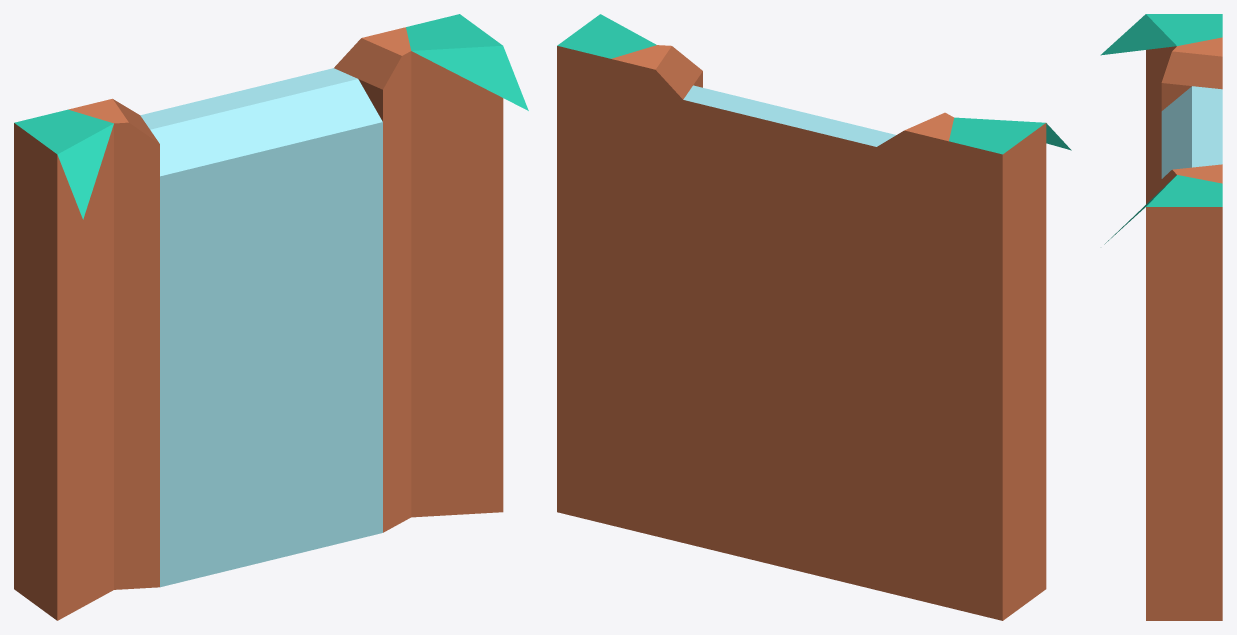
Rendered from cliff_waterfallTop_rock.obj.
3 views of the same model, side by side, from view 1: azimuth 30°, elevation 25°; view 2: azimuth 150°, elevation 25°; view 3: azimuth 270°, elevation 25° (orthographic). The views are drawn at different scales.
Parts seen in each view (by area): view 1: cliff_waterfallTop_rock; view 2: cliff_waterfallTop_rock; view 3: cliff_waterfallTop_rock.
Part boxes in pixels (x1,y1,x2,y2): cliff_waterfallTop_rock: (14, 14, 528, 620); cliff_waterfallTop_rock: (557, 14, 1071, 620); cliff_waterfallTop_rock: (1100, 14, 1222, 620).
Size of the model in its own units: 1 by 1 by 0.2685.
